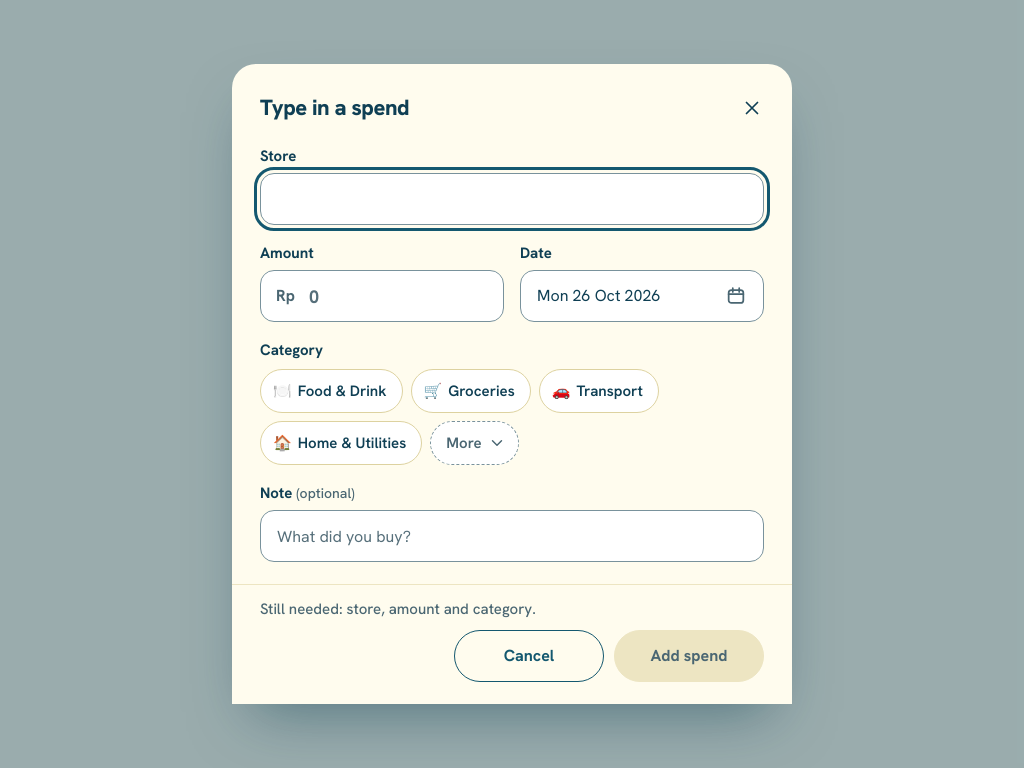
Test case: type in a spend › formats the amount with dots as it is typed
The image size is (1024, 768).
In the field labelled "Amount": (382, 296) [260,270,504,322], type "1234567"
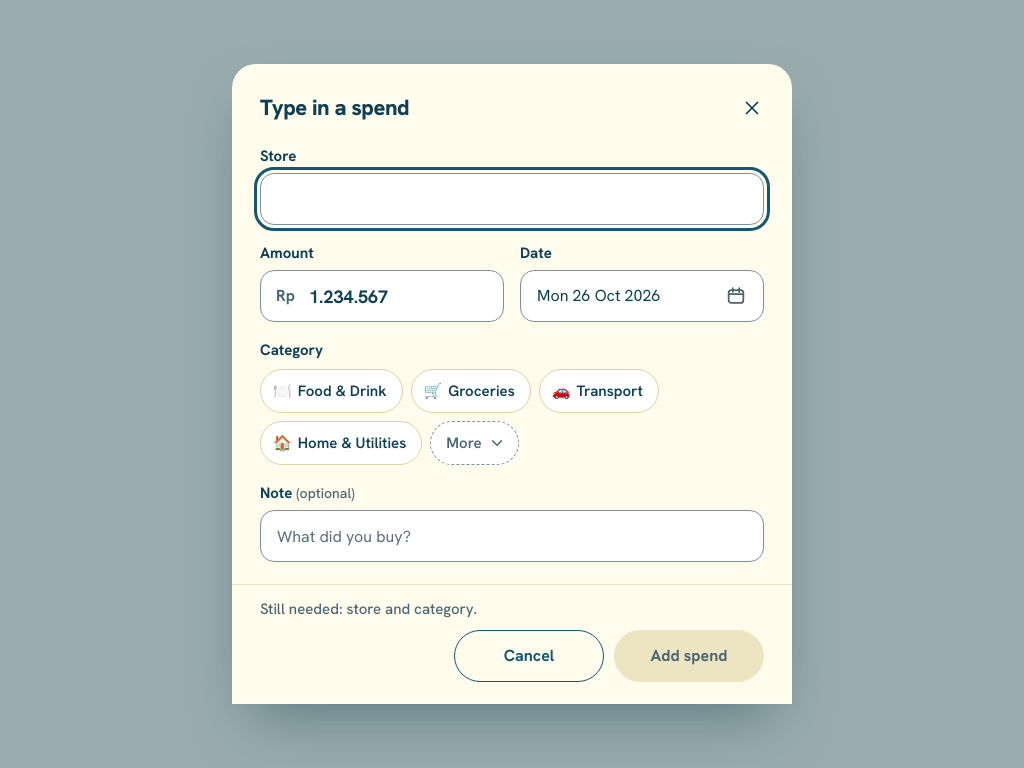
Expected: the field labelled "Amount" holds "1.234.567", [260,270,504,322]
